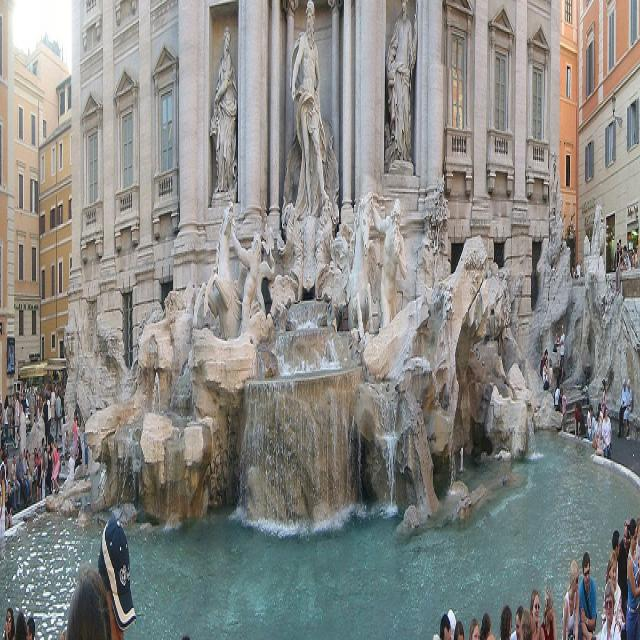body: (61, 514, 137, 638), (349, 188, 407, 338), (290, 0, 330, 216), (216, 222, 274, 340), (383, 0, 417, 163), (210, 22, 238, 204), (435, 600, 534, 638), (10, 366, 51, 449), (573, 402, 614, 466), (600, 548, 622, 638), (576, 549, 598, 638), (624, 516, 640, 638), (0, 598, 44, 638), (617, 516, 632, 622), (561, 557, 580, 638), (599, 578, 622, 638), (16, 448, 38, 504), (539, 585, 557, 640), (61, 408, 79, 458), (618, 378, 629, 440), (10, 451, 21, 512), (622, 378, 632, 442), (50, 432, 60, 496), (529, 587, 541, 640), (614, 237, 624, 299), (558, 320, 566, 386), (0, 461, 6, 549), (54, 386, 63, 442), (3, 390, 10, 458), (559, 386, 568, 434), (51, 369, 68, 394), (40, 434, 46, 504), (5, 480, 13, 531), (634, 515, 640, 579), (45, 450, 52, 502), (553, 373, 562, 413), (581, 363, 590, 403), (626, 243, 638, 272), (82, 429, 89, 478), (36, 447, 42, 502), (74, 434, 82, 475), (610, 526, 621, 554), (50, 381, 56, 432), (542, 356, 551, 390), (539, 346, 548, 380), (569, 261, 585, 280), (601, 378, 607, 420), (620, 245, 629, 272), (547, 355, 554, 389), (6, 342, 15, 367), (552, 329, 561, 354), (177, 626, 194, 638), (614, 240, 620, 269), (0, 458, 8, 478), (0, 390, 2, 453), (0, 477, 2, 520), (54, 438, 60, 448)
